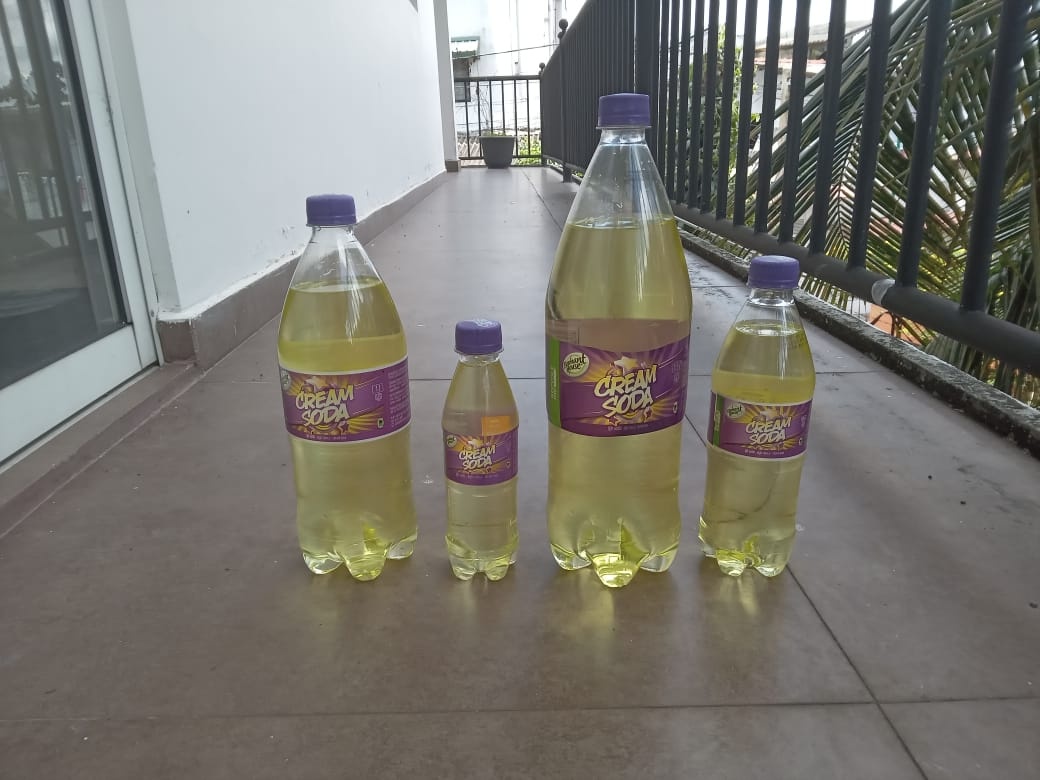L: (543, 94, 695, 589)
M: (276, 196, 418, 581)
S: (698, 256, 816, 579)
Xs: (440, 321, 524, 582)
